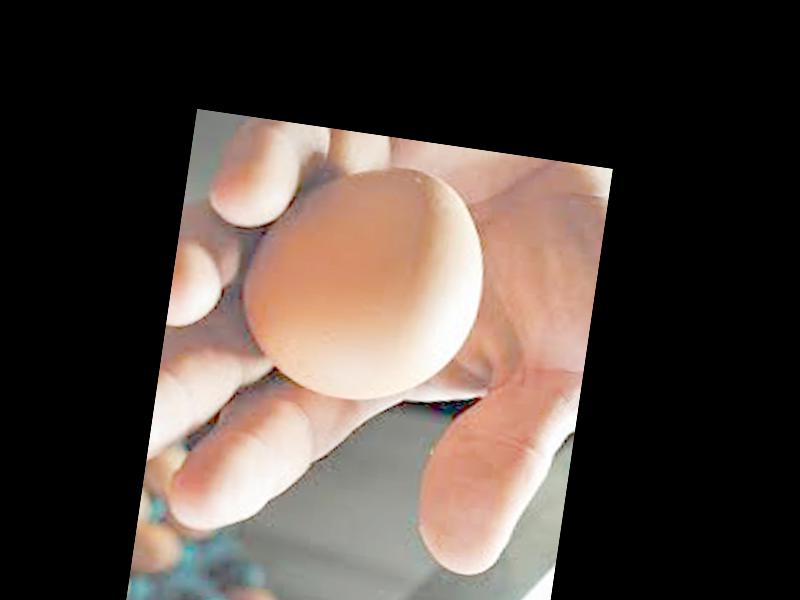Eggs: (226, 143, 496, 416)
